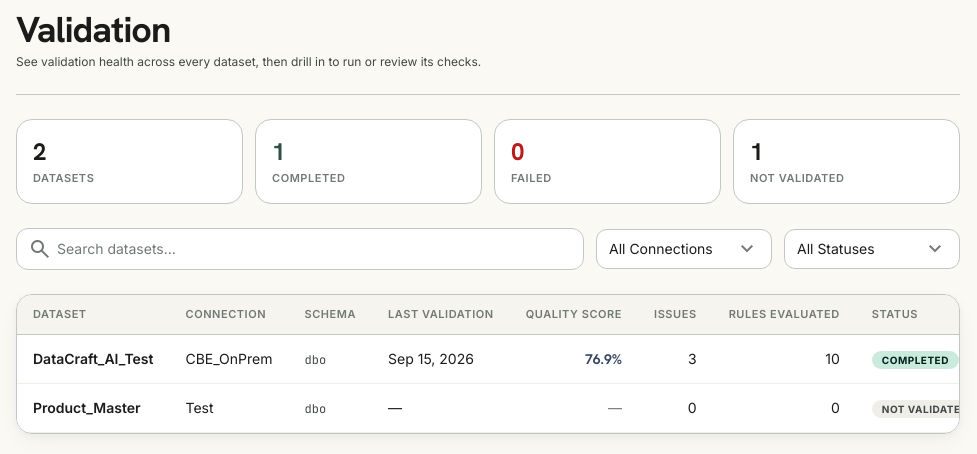
Scenario: ValidationMasterView › filters by connection
Click the button with aria-label "Filter by connection" at (684, 248), box [596, 228, 772, 268]
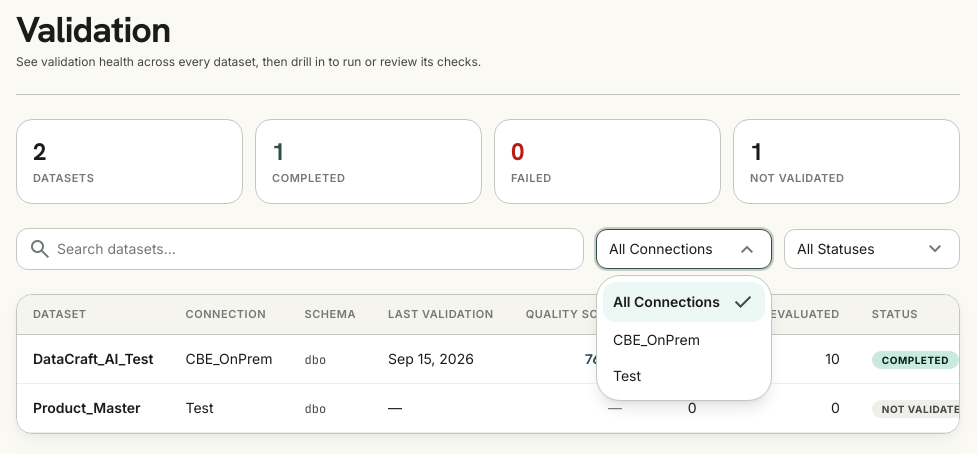
Click the option "Test" at (627, 375), box [613, 366, 641, 384]
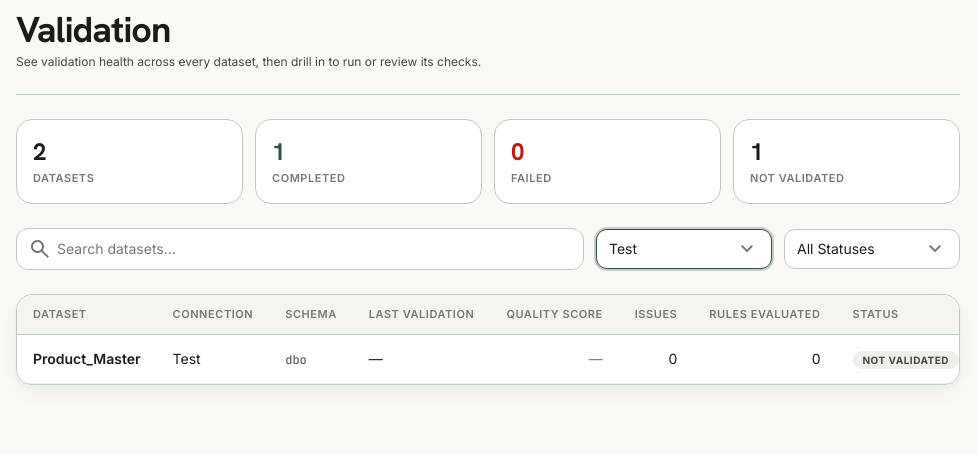
Expected: the text "Product_Master" is shown, [33, 350, 140, 367]
Result: the button "DataCraft_AI_Test" is gone
